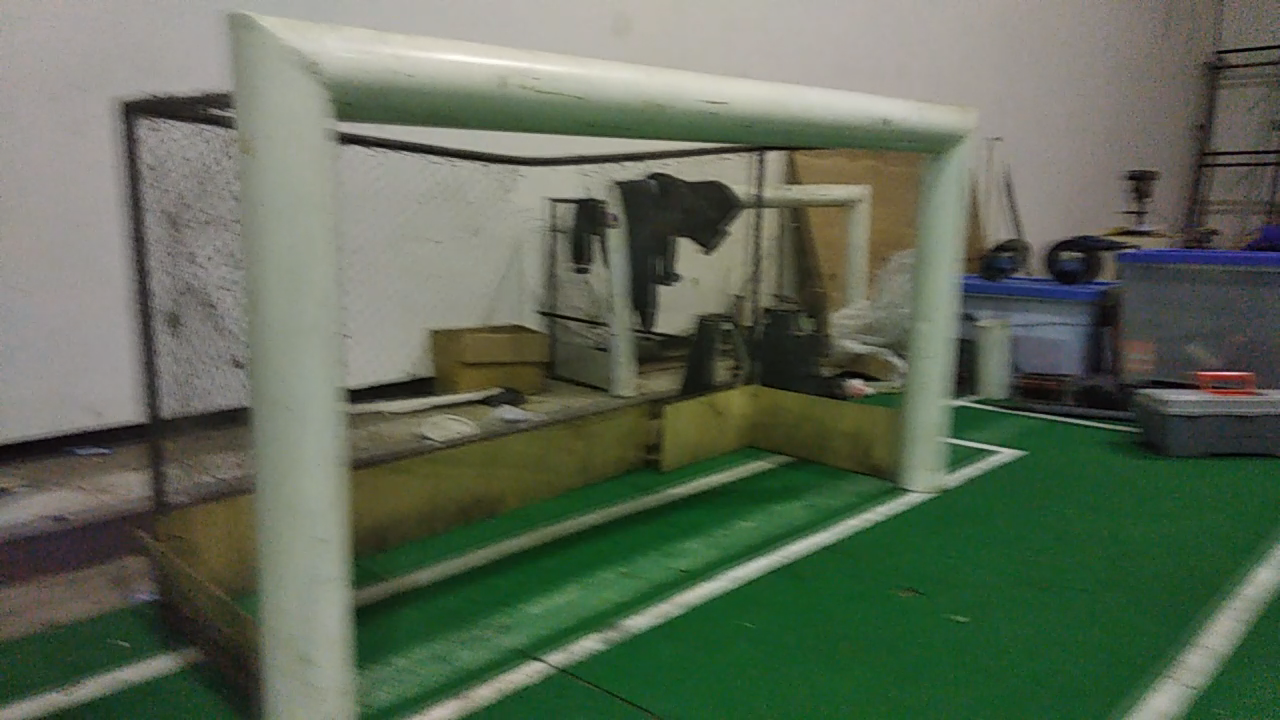gawang: (222, 6, 977, 706)
